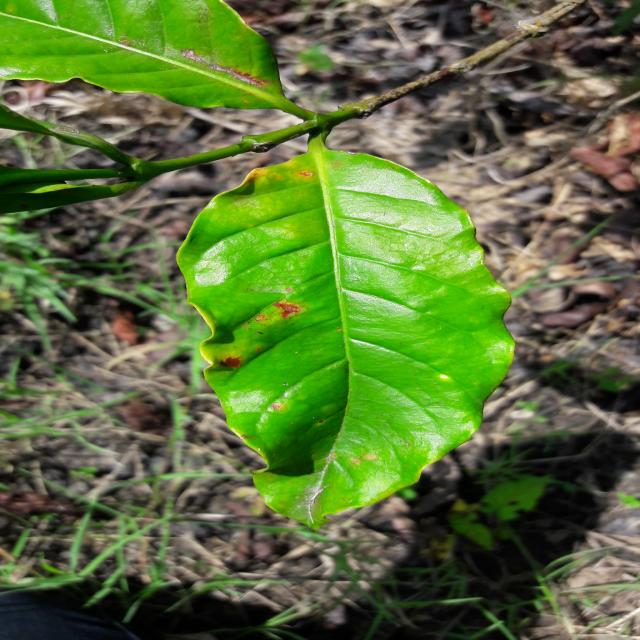Enfermedad-Roya: (175, 139, 515, 528)
